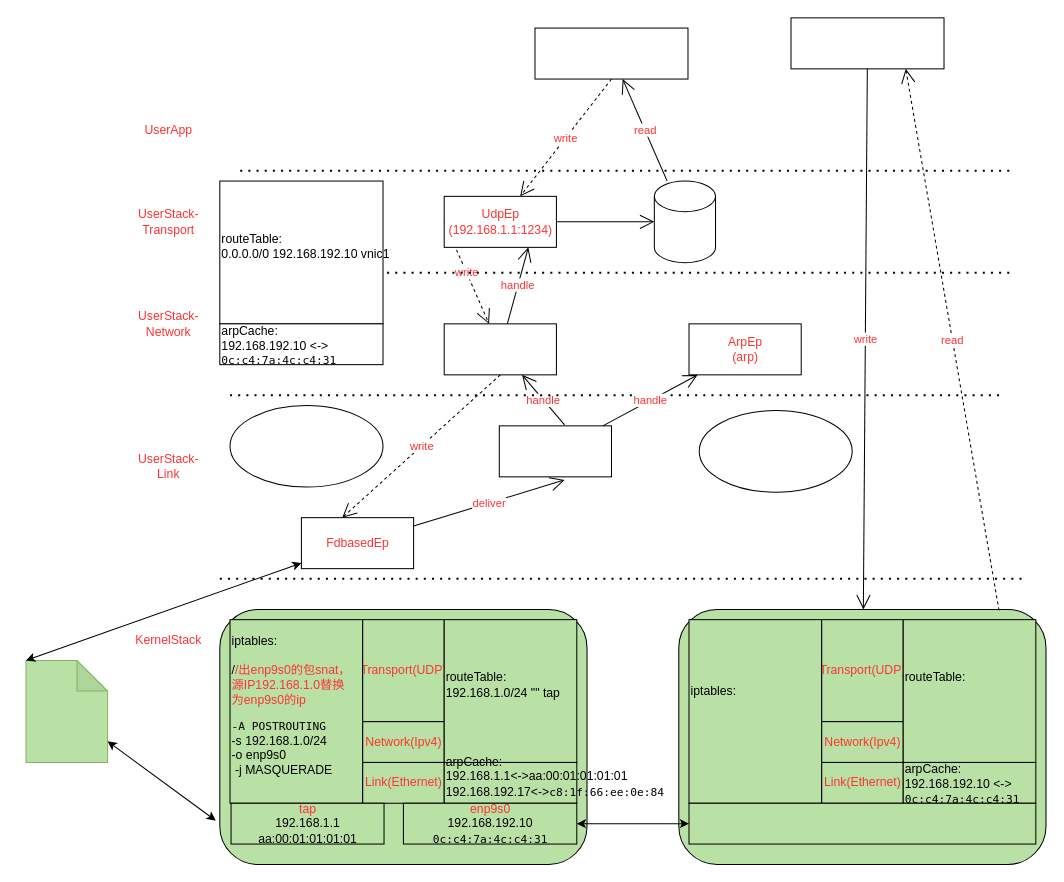
The diagram is 1064 pixels wide and 882 high, and some of its shapes have lost their labels. The centre of each missing label's shape, as x and y in pixels:
"192.168.1.1:1234 aa:00:01:01:01:01 192.168.192.17:9000 0c:c4:7a:4c:c4:31" belongs at (x=306, y=445).
"192.168.192.17:9000 c8:1f:66:ee:0e:84 192.168.192.10:1234 0c:c4:7a:4c:c4:31" belongs at (x=775, y=451).
"buf" belongs at (x=684, y=221).
"em2 192.168.192.17 c8:1f:66:ee:0e:84" belongs at (x=862, y=823).
"Ipv4Ep (192.168.1.1)" belongs at (x=499, y=349).
"tap: /dev/net/tun" belongs at (x=66, y=710).
"UdpClientWithUserStack" belongs at (x=611, y=53).
"UdpServerWittKernalStack (192.168.192.17:9000)" belongs at (x=867, y=43).
"VNIC1" belongs at (x=554, y=451).
